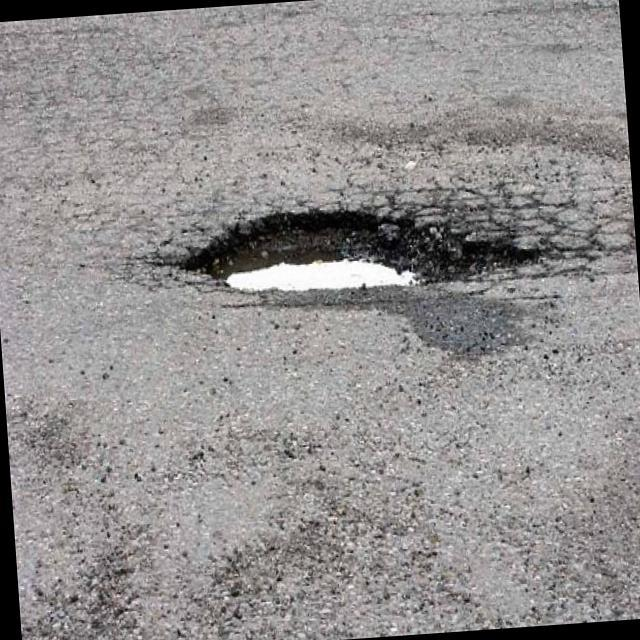Pothole: (184, 208, 538, 283)
